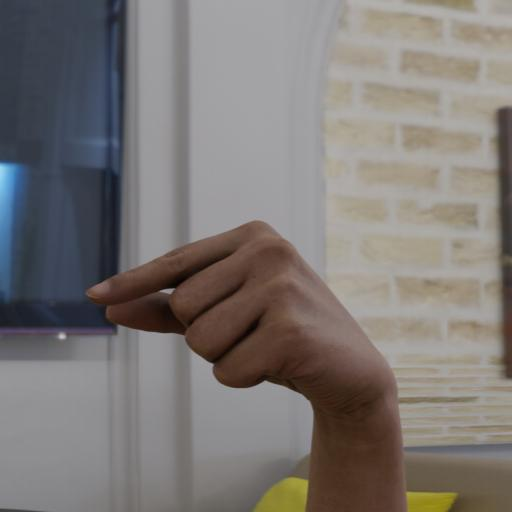G: (82, 216, 396, 398)
